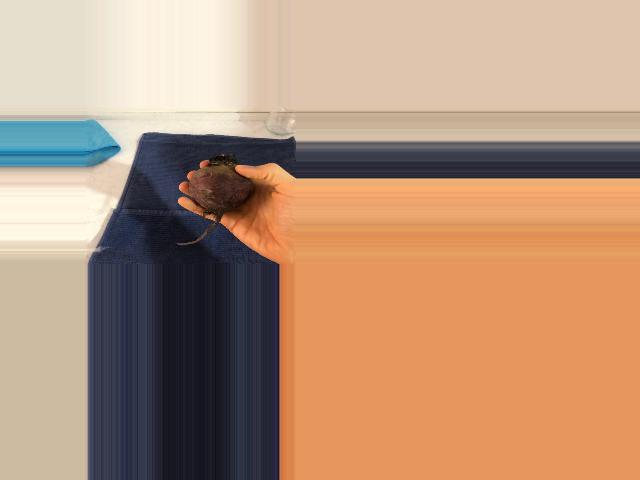beet: (174, 154, 253, 245)
